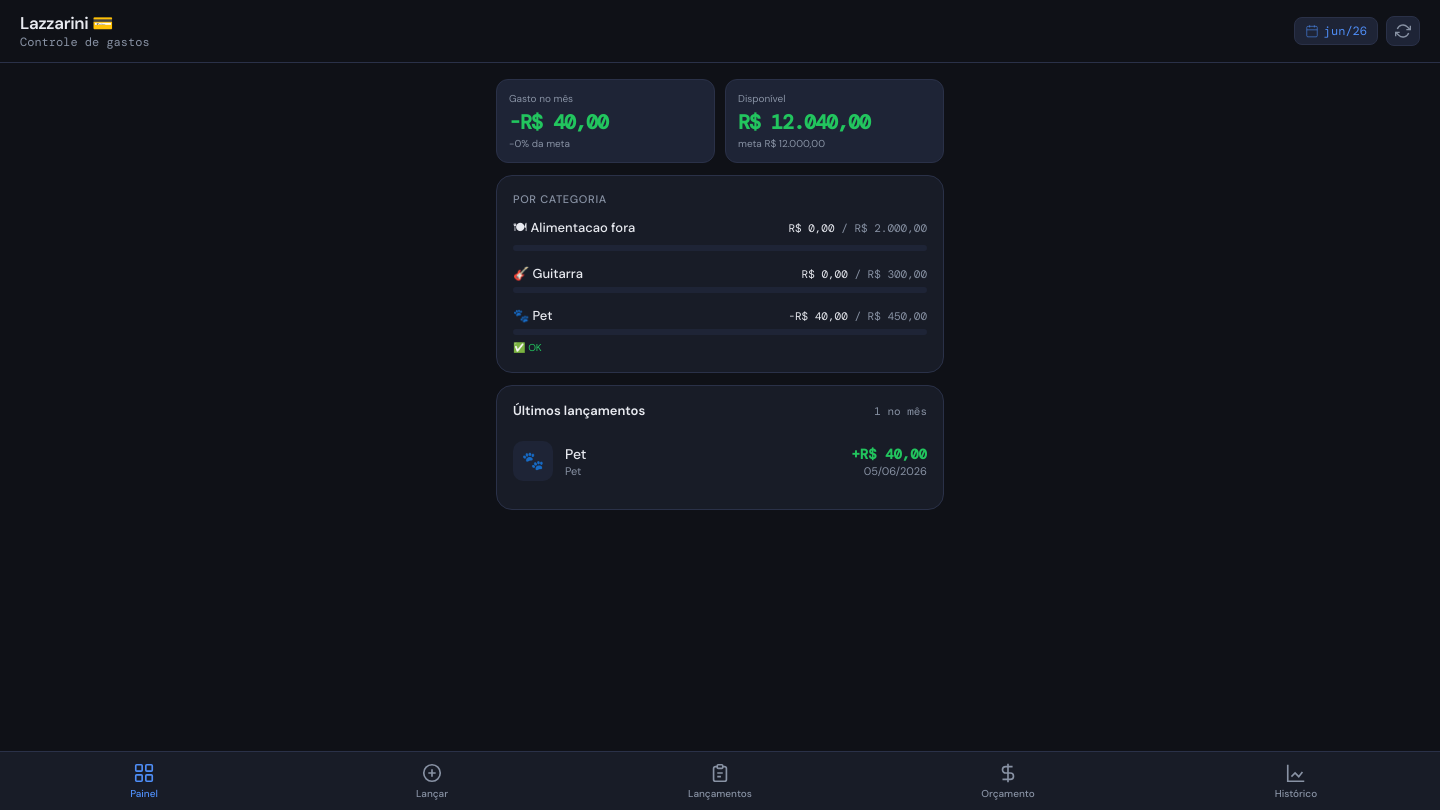
Test: Detalhe do lançamento › sem descrição e sem observação; crédito em verde
expect the text "Por categoria" is shown: met, box [513,192,607,206]
Click the button "Lançamentos" at coordinates (720, 781), box [576,752,864,809]
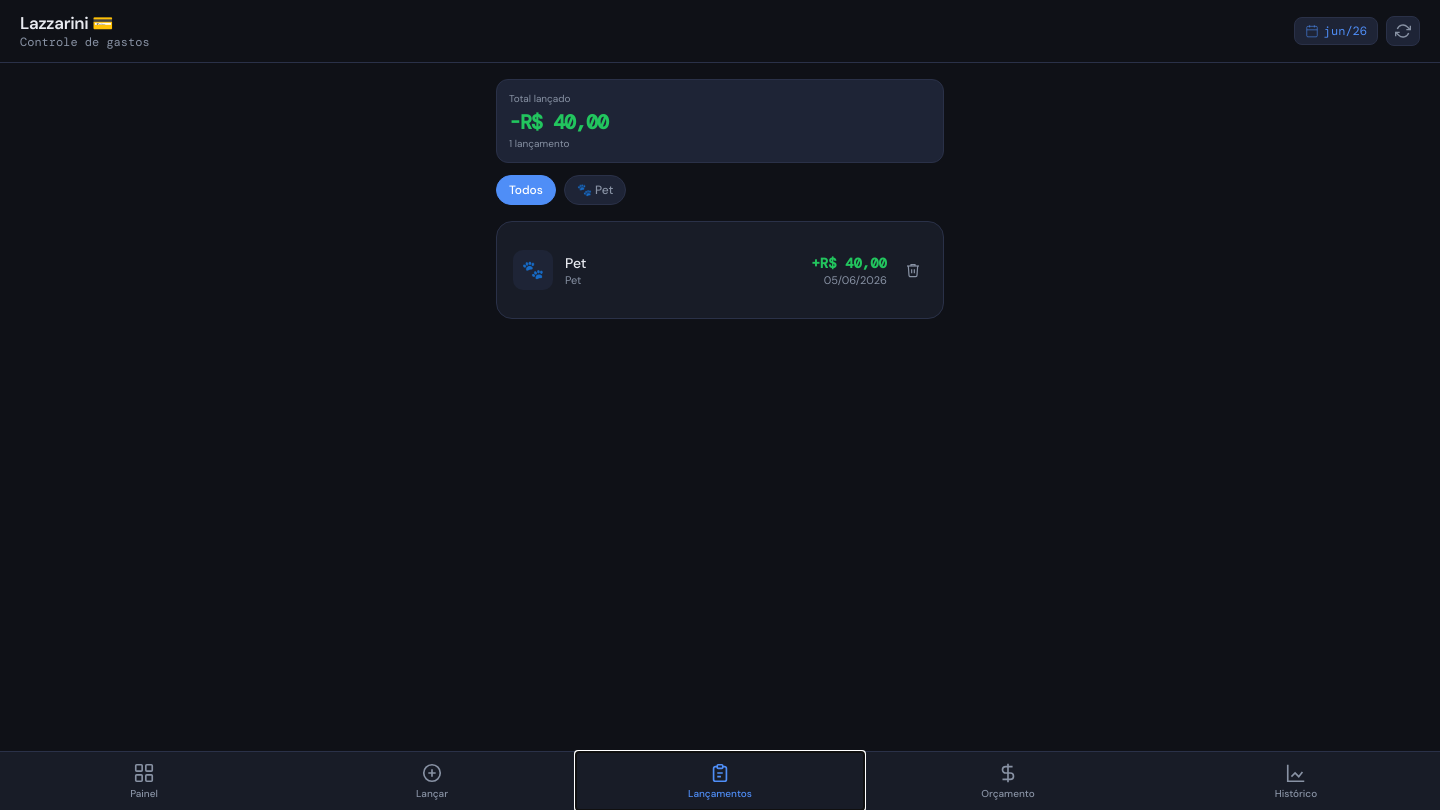
Click the element with test id "lanc-item" at coordinates (533, 270), box [513,238,927,302]
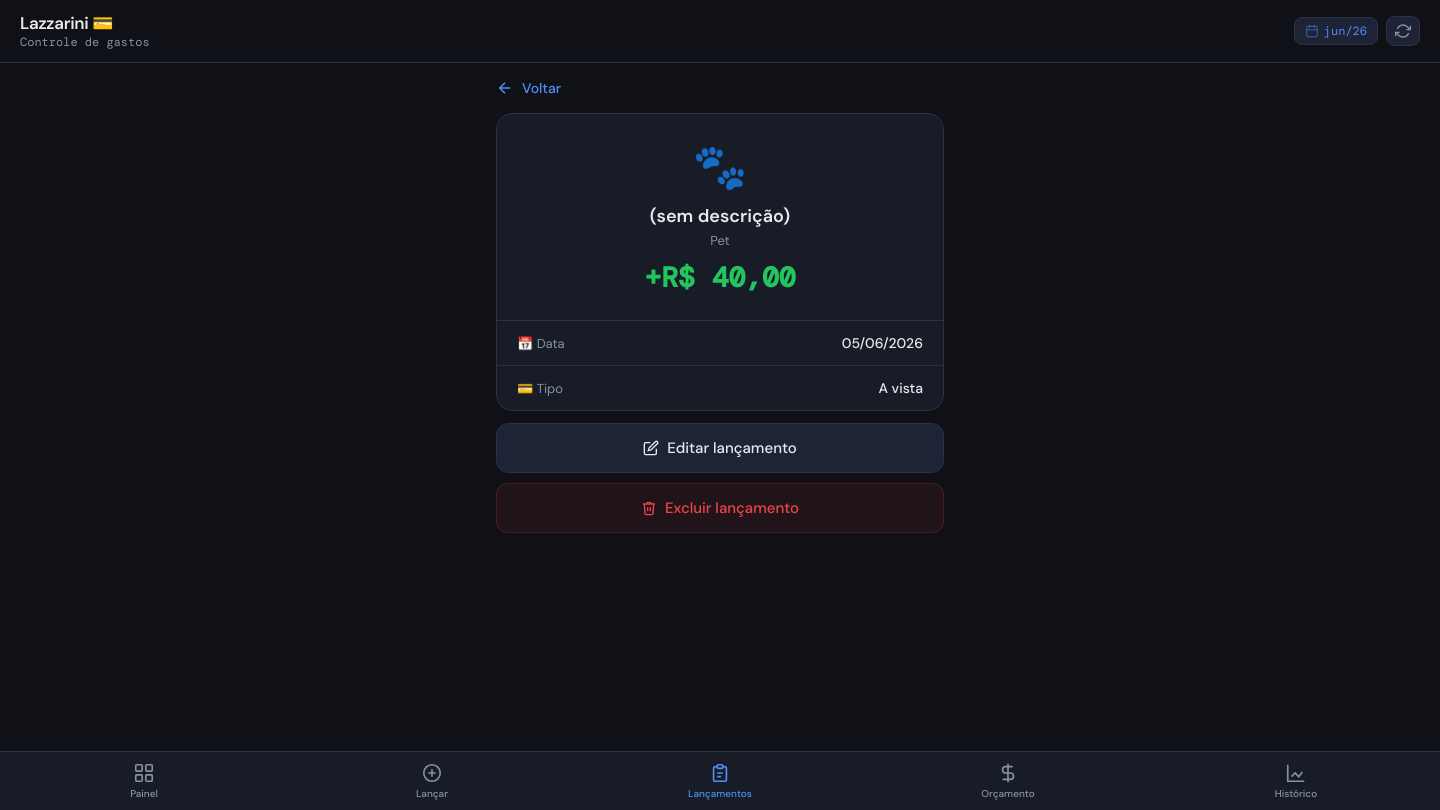
expect the text "(sem descrição)" is shown: met, box [650,204,790,228]
